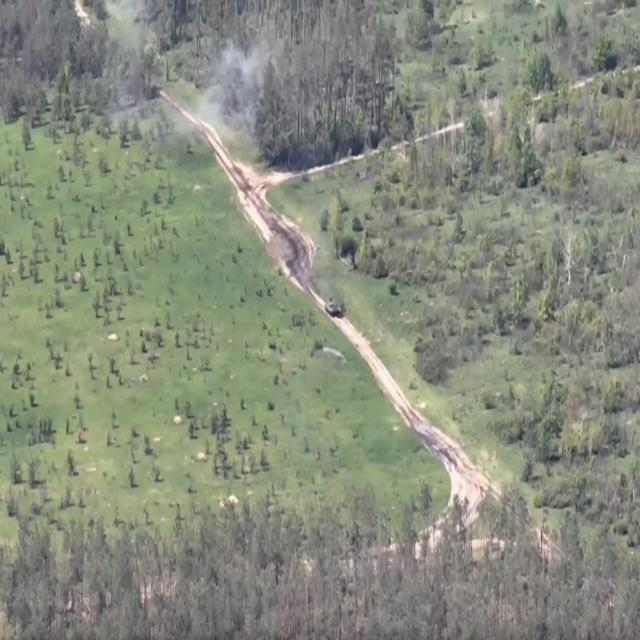MBT: (325, 298, 343, 319)
